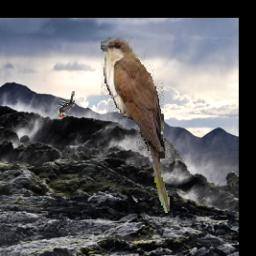Cuckoo: (99, 38, 170, 214)
Woodpecker: (56, 91, 76, 117)
